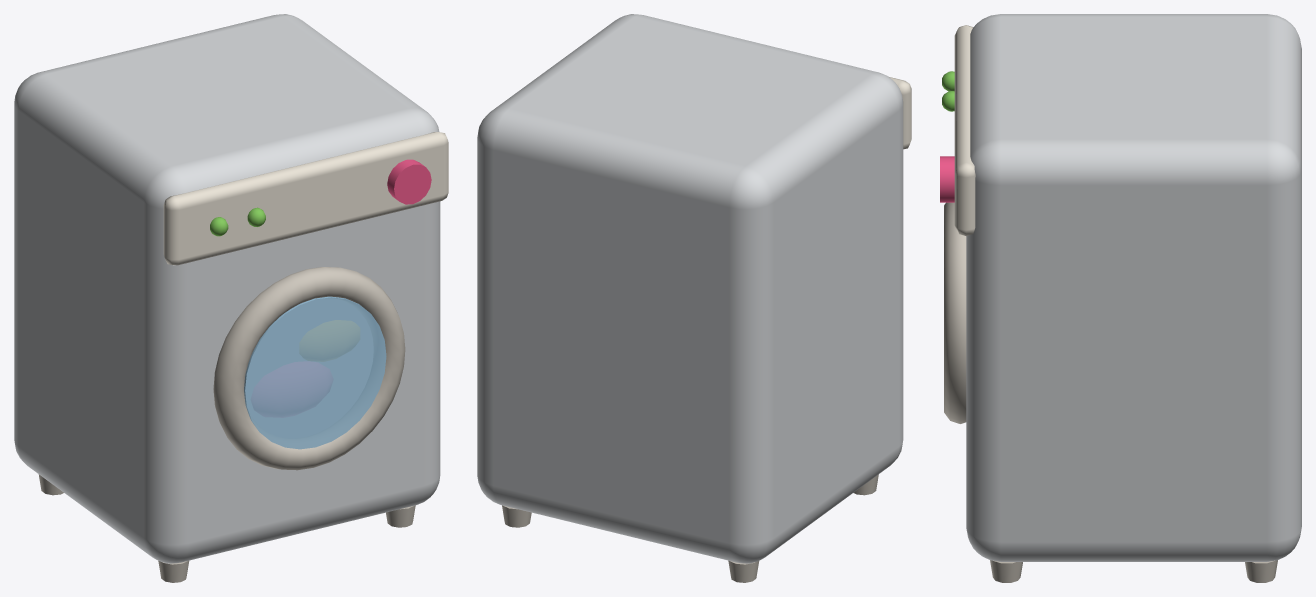
The model's file is laundry-washer.glb.
The picture shows the model from 3 angles, left to right: view 1: azimuth 30°, elevation 25°; view 2: azimuth 150°, elevation 25°; view 3: azimuth 270°, elevation 25°; orthographic projection. The views are drawn at different scales.
Size of the model in its own units: 0.62 by 0.84 by 0.625.
